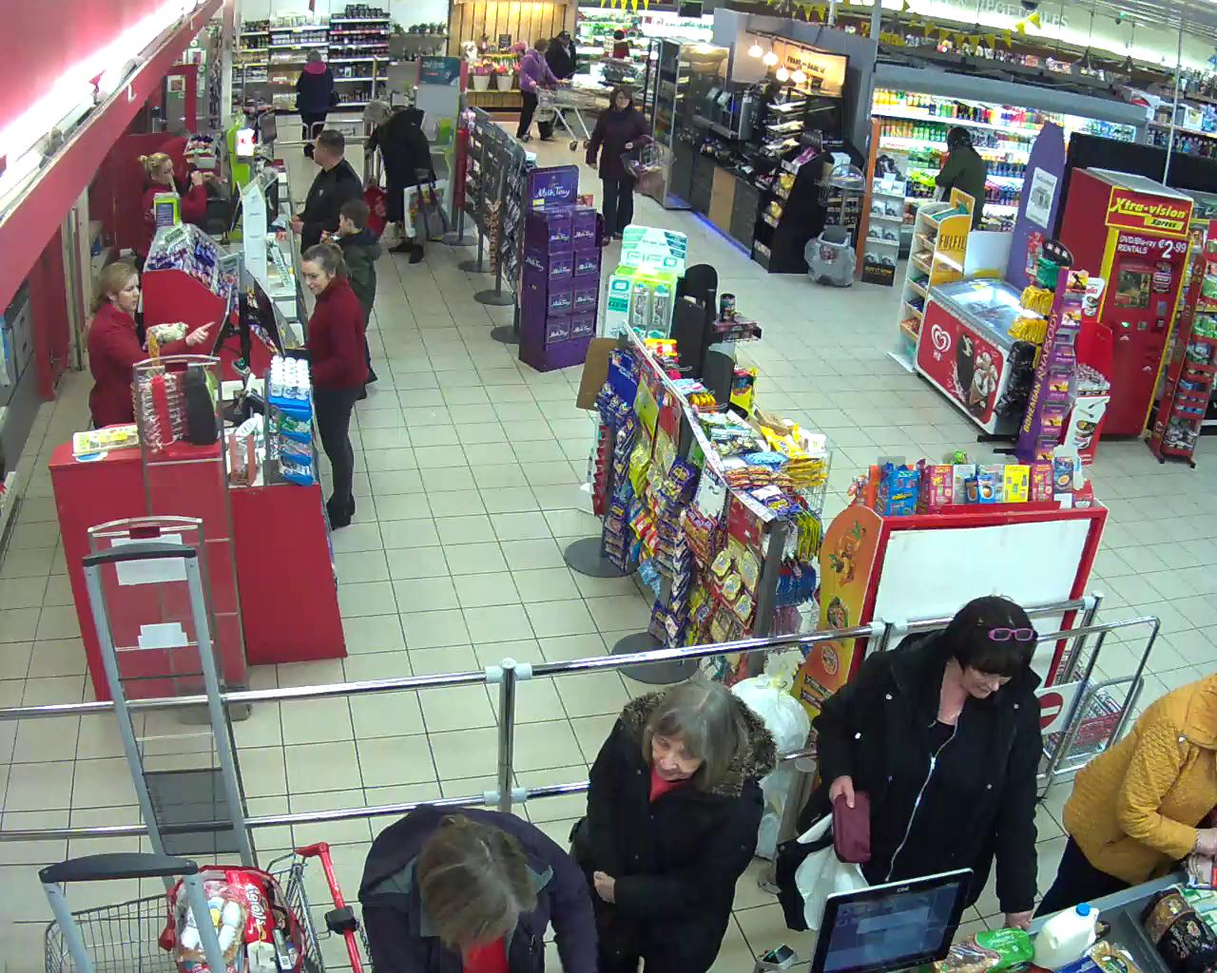filled-basket: (620, 135, 675, 175), (361, 184, 391, 239)
filled-shopping-bags: (404, 177, 451, 242)
occupied-checkout-counter: (60, 262, 287, 438), (117, 152, 280, 252), (141, 108, 284, 184)
person: (362, 99, 437, 264), (585, 85, 648, 244)
person-with-basket-trolly-and-shopping-bag: (361, 99, 451, 264)
person-with-filled-basket-trolly: (585, 85, 675, 248)
